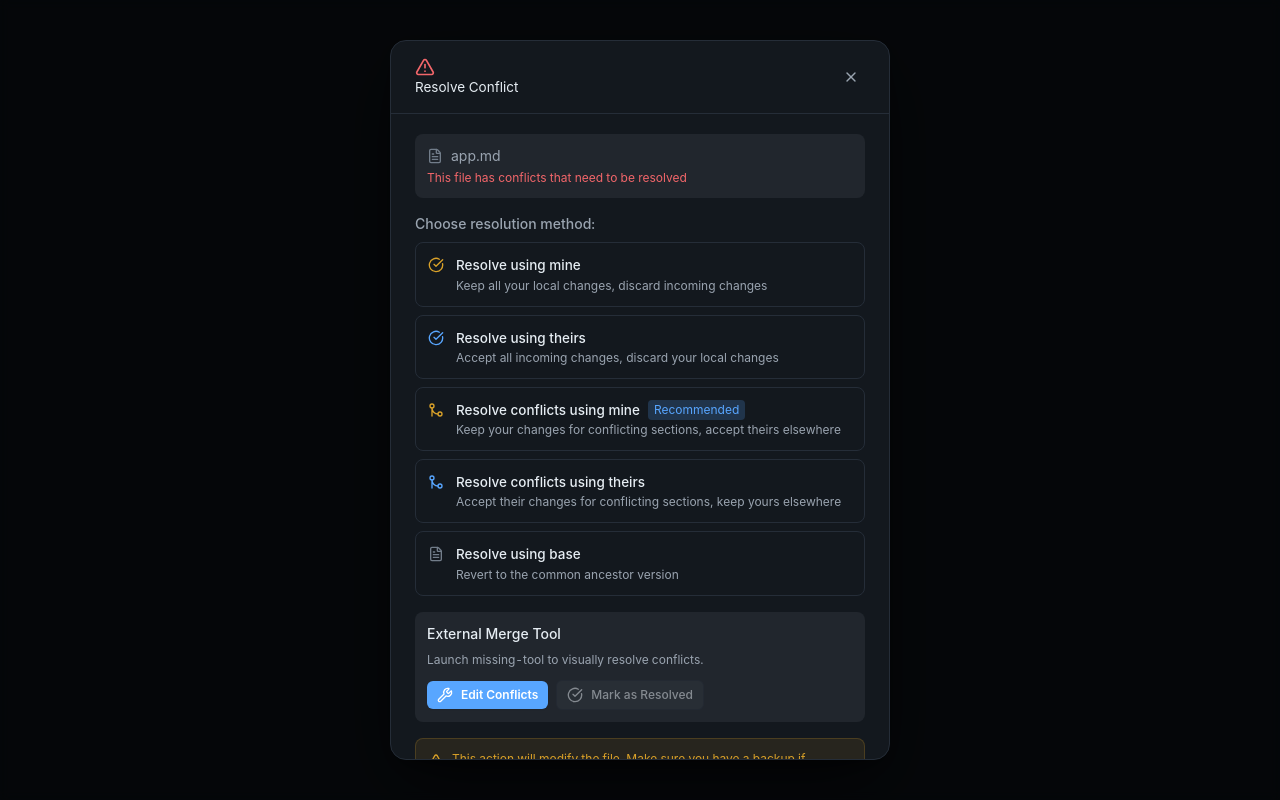
Test: external merge tool launch › surfaces missing or invalid external merge tool errors
What coordinates should you click on to do the following:
click the button "Edit Conflicts"
I would click on:
 (488, 694)
Its box is [427,680,548,708].
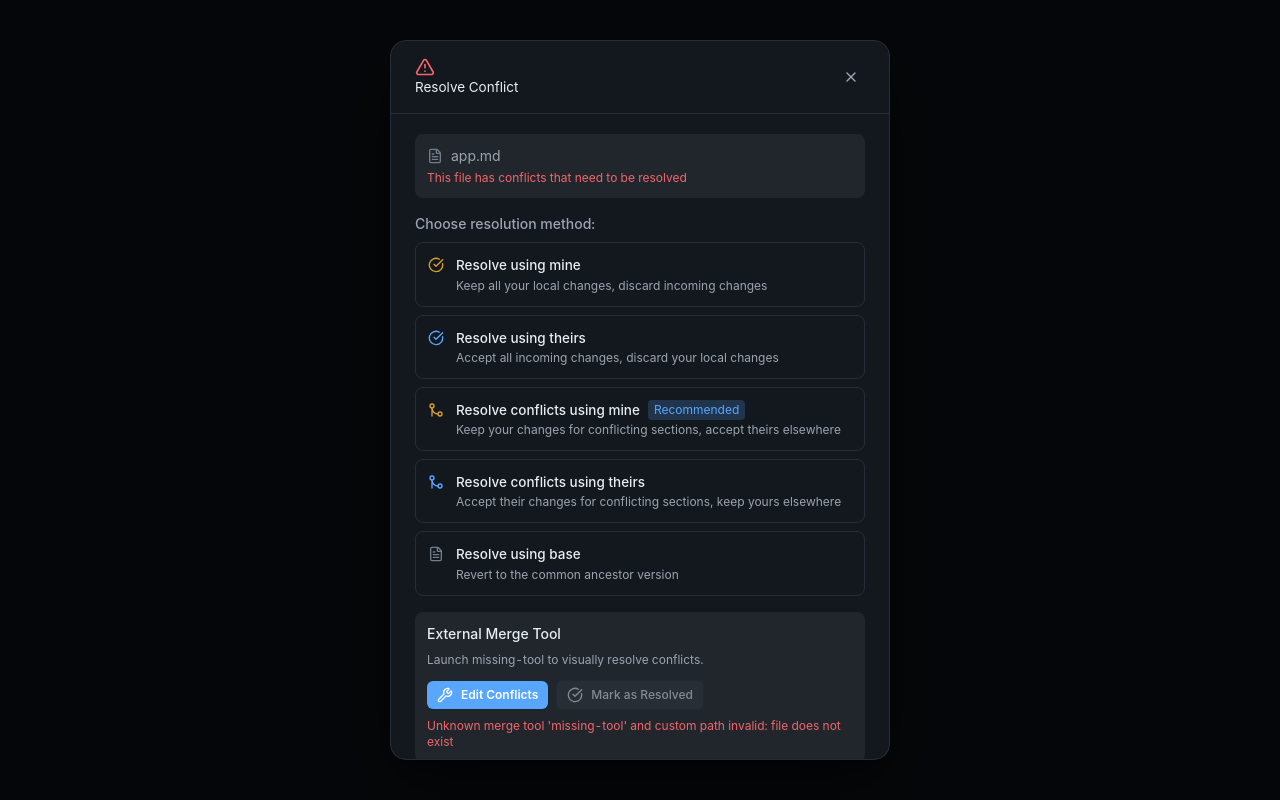
Expected: the button "Mark as Resolved" is disabled, [556,680,704,710]
Now the text "Unknown merge tool 'missing-tool'" is shown, box [427,718,841,748]
